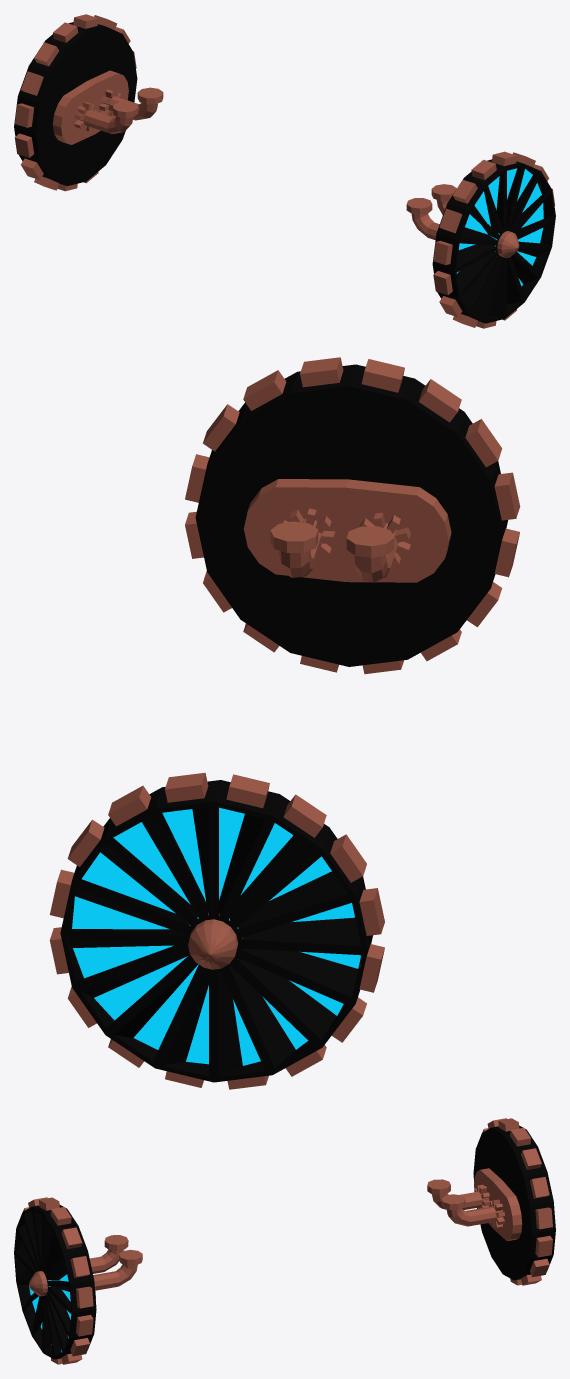
The model's file is engine_fan.glb.
The picture shows the model from 3 angles, top to bottom: view 1: azimuth 30°, elevation 25°; view 2: azimuth 150°, elevation 25°; view 3: azimuth 270°, elevation 25°; orthographic projection. The views are drawn at different scales.
Visible parts, largest first — view 1: Cube058, Cube058_2, Cube058_1; view 2: Cube058, Cube058_2, Cube058_1; view 3: Cube058, Cube058_2.
Part boxes in pixels (x1,y1,x2,y2): Cube058: (14, 22, 555, 323); Cube058_2: (14, 14, 555, 328); Cube058_1: (456, 168, 543, 286); Cube058: (60, 364, 507, 1082); Cube058_2: (49, 357, 520, 1089); Cube058_1: (72, 807, 360, 1065); Cube058: (14, 1125, 555, 1359); Cube058_2: (23, 1118, 552, 1364).
Size of the model in its own units: 0.5122 by 0.2464 by 0.7984.
